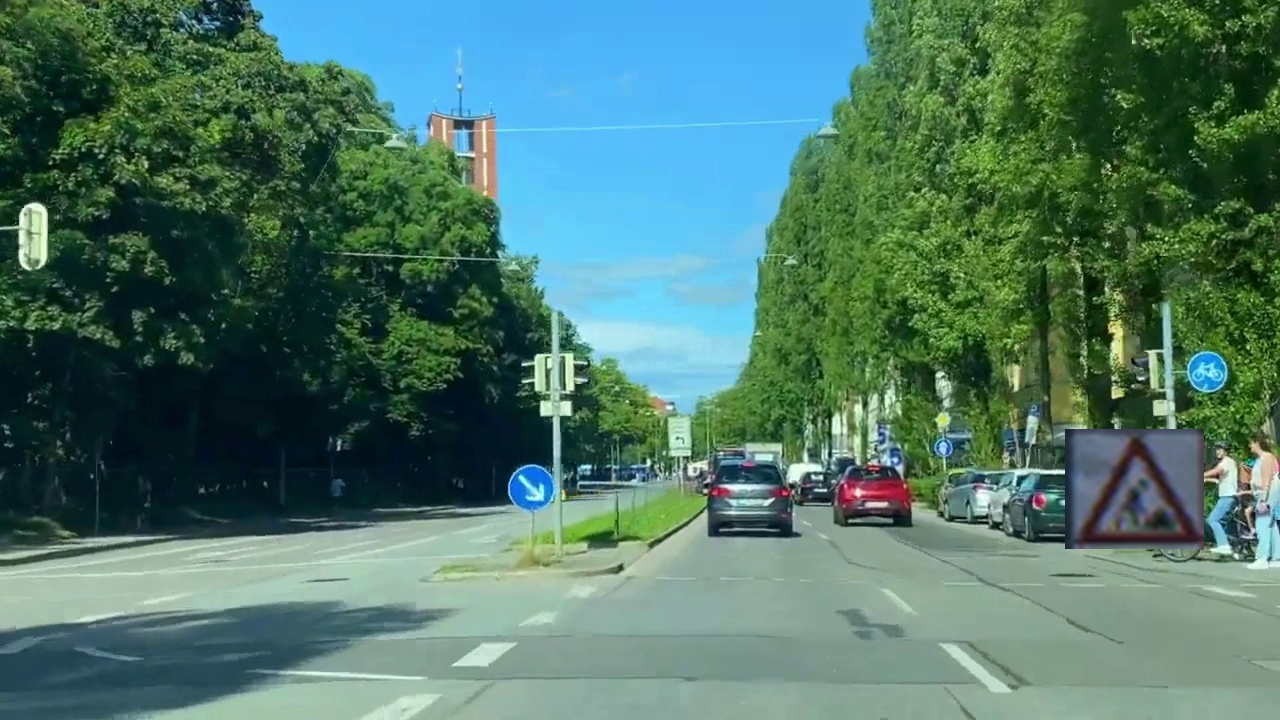Road work: (1065, 429, 1204, 549)
